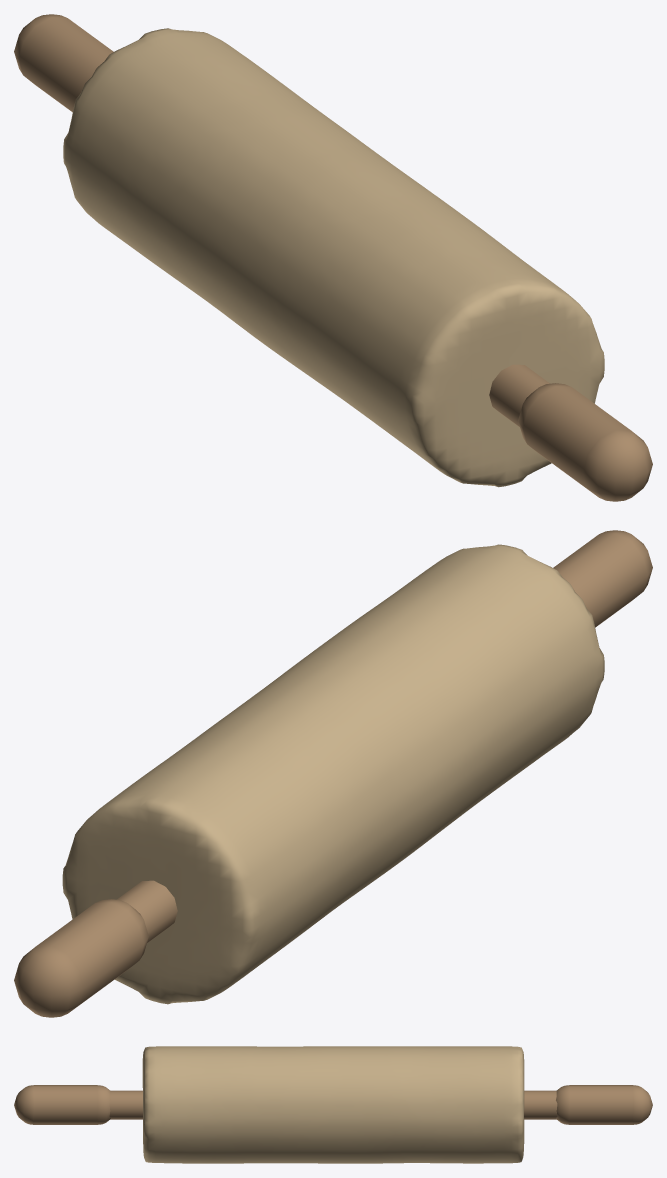
Rendered from SM_RollingPin.glb.
The picture shows the model from 3 angles, top to bottom: view 1: azimuth 30°, elevation 25°; view 2: azimuth 150°, elevation 25°; view 3: azimuth 270°, elevation 25°; orthographic projection. The views are drawn at different scales.
Visible parts, largest first — view 1: SM_RollingPin; view 2: SM_RollingPin; view 3: SM_RollingPin.
Boxes of the visible parts, x1,y1,x2,y2 form: SM_RollingPin: [14, 14, 652, 501]; SM_RollingPin: [14, 530, 652, 1017]; SM_RollingPin: [14, 1046, 652, 1163].
Size of the model in its own units: 0.2594 by 0.2594 by 1.41.
